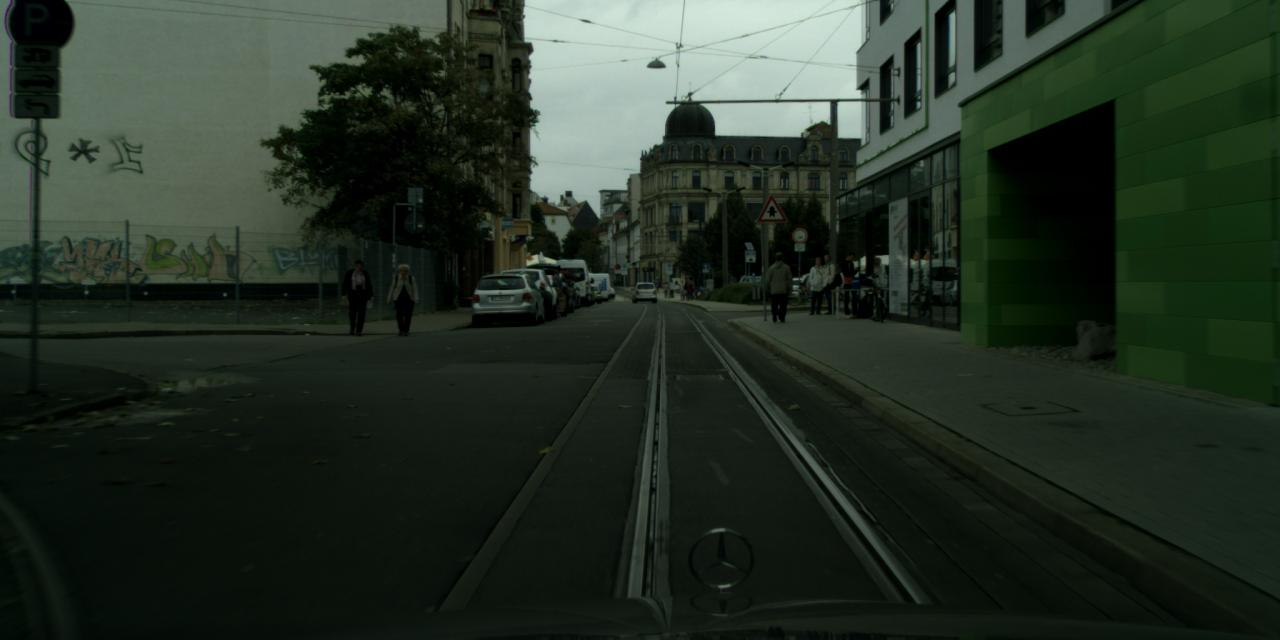ped: (342, 260, 372, 334), (764, 251, 794, 322), (388, 264, 417, 335), (838, 252, 864, 316), (818, 254, 842, 313), (805, 257, 827, 314), (682, 278, 692, 300), (653, 276, 661, 296), (678, 279, 686, 299), (667, 280, 675, 298), (662, 282, 668, 297)
